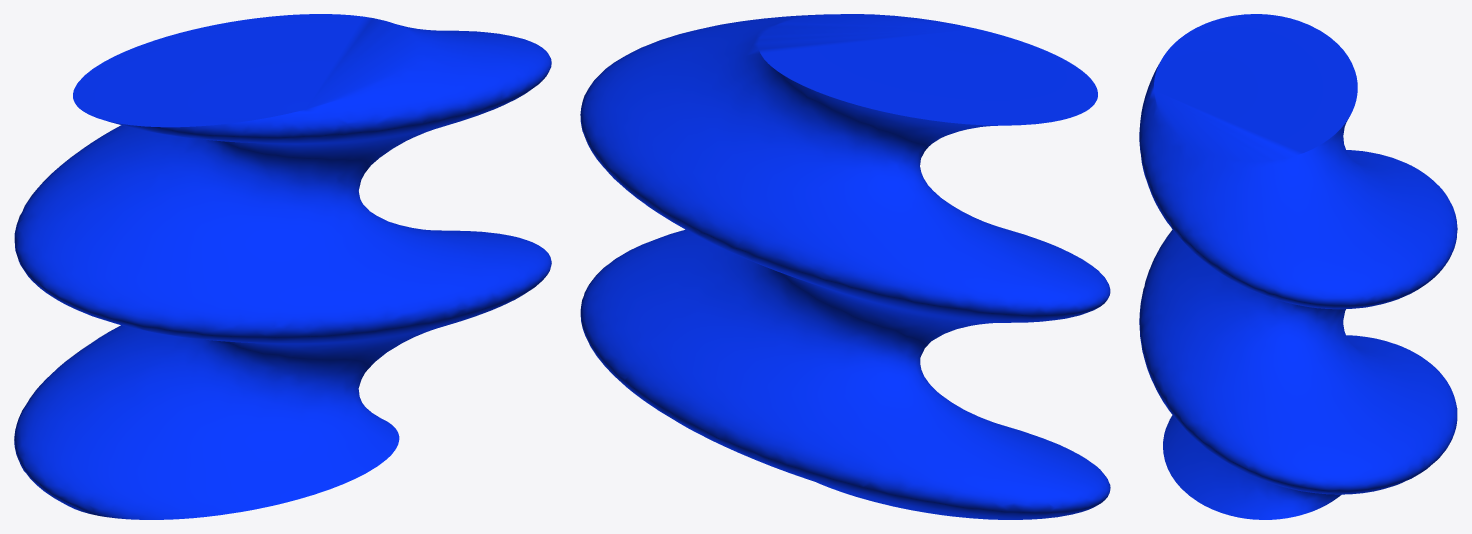
File: bigwave.glb
3 renders of one model, left to right at view 1: azimuth 30°, elevation 25°; view 2: azimuth 150°, elevation 25°; view 3: azimuth 270°, elevation 25°, orthographic. The views are drawn at different scales.
Parts seen in each view (by area): view 1: Cylinder; view 2: Cylinder; view 3: Cylinder.
Part boxes in pixels (<box>): Cylinder: <box>14,14,551,519</box>; Cylinder: <box>580,14,1110,519</box>; Cylinder: <box>1139,14,1457,519</box>.
Size of the model in its own units: 6.29 by 4.64 by 3.67.
